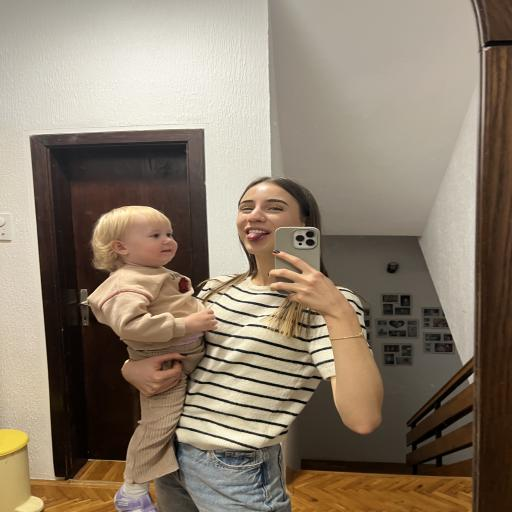masa: (236, 182, 305, 253)
